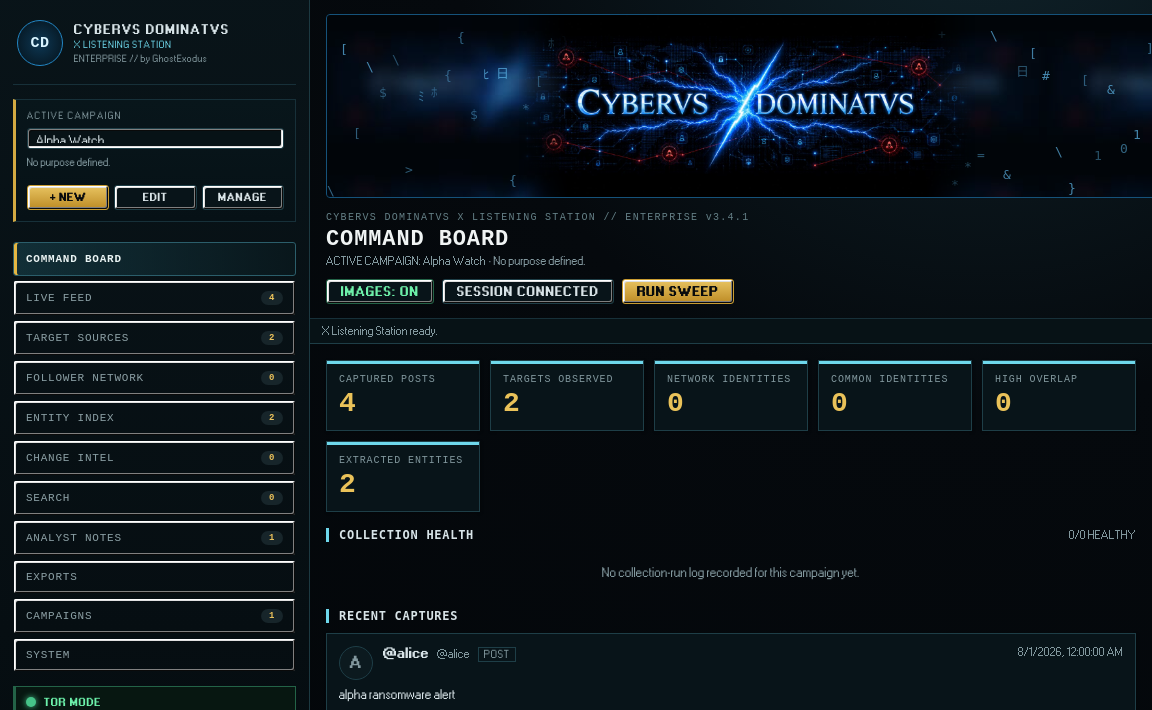
Test: PC5 — restored analyst-UX filters (M12–M15, L2) › M12: the Live SOURCE dropdown narrows the feed to one source
Click the button with class "xls-tab" showing "LIVE FEED 4".
click(59, 298)  # box [13, 280, 296, 316]
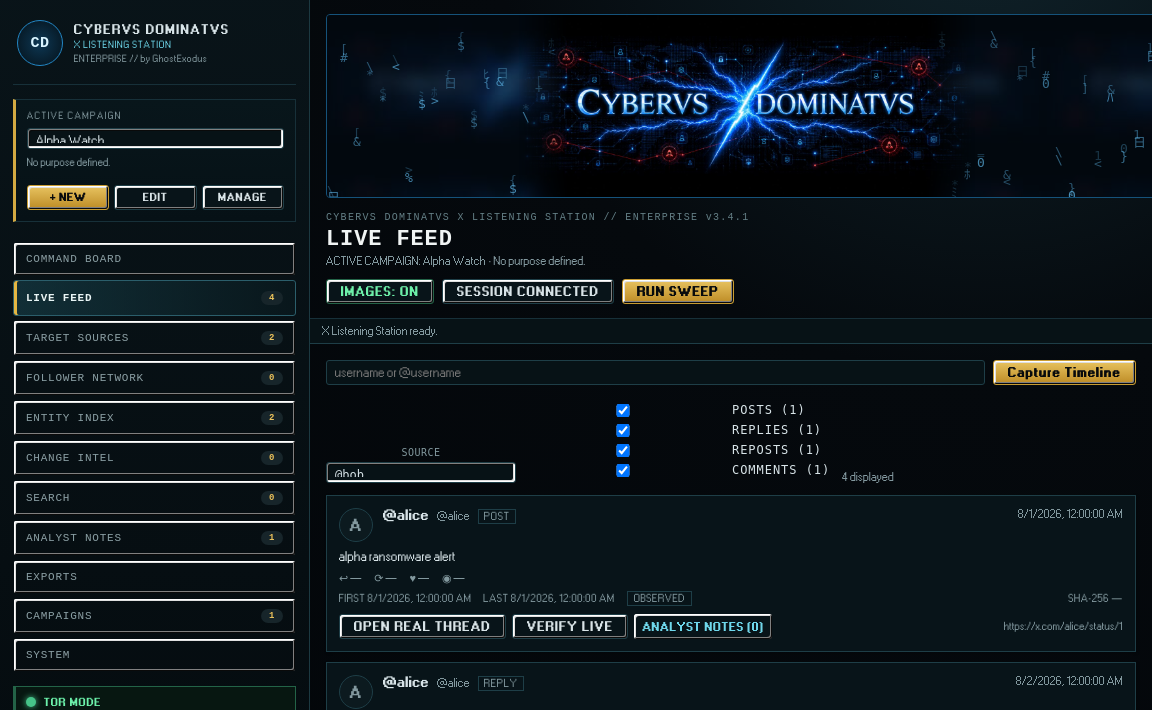
Check: the dropdown with class "xls-live-source" is shown
Select "@bob" in the dropdown with class "xls-live-source" at [421, 473], box [326, 462, 516, 483]
(page scrolled)
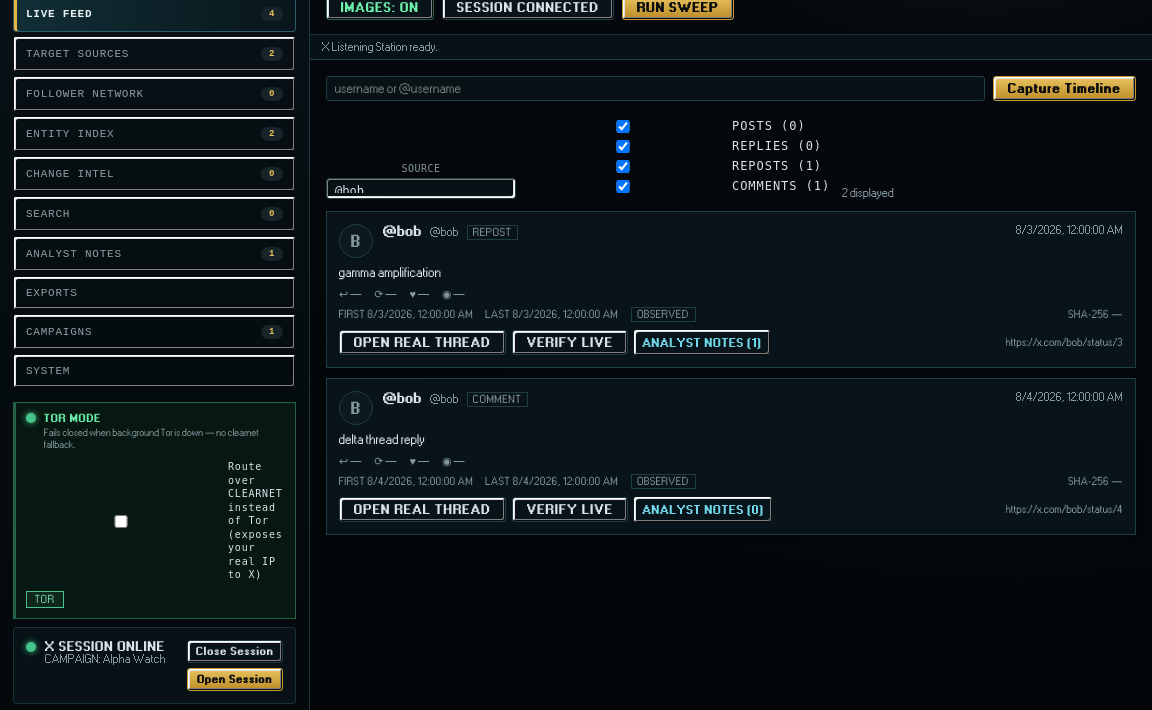
Check: the element with class "xls-feed" shows "gamma amplification", box [339, 266, 442, 279]
Check: the text with class "xls-feed" no longer shows "@alice"
